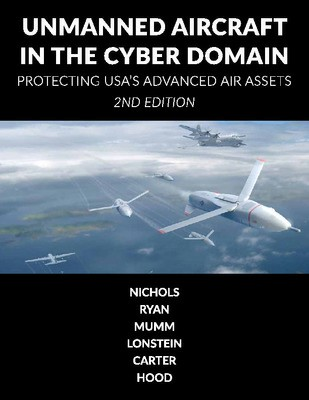maybay_khongnguoilai: (169, 159, 301, 257), (82, 187, 148, 222), (184, 229, 220, 251), (150, 169, 174, 182)
